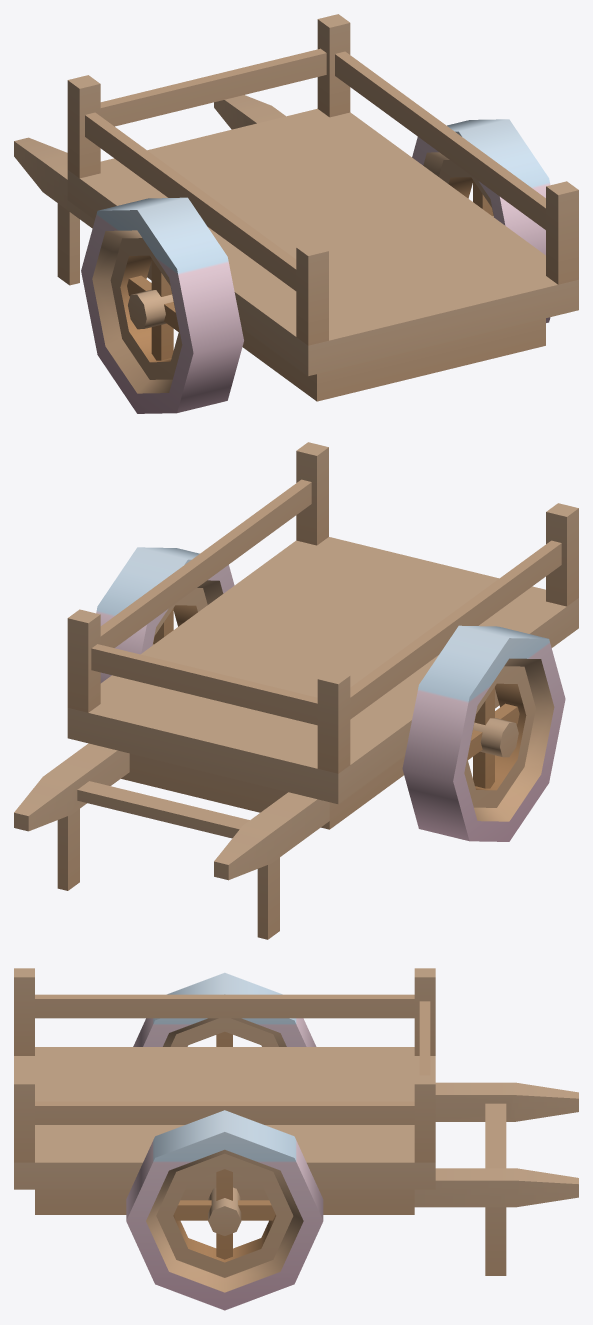
Rendered from cart.obj.
The picture shows the model from 3 angles, top to bottom: view 1: azimuth 30°, elevation 25°; view 2: azimuth 150°, elevation 25°; view 3: azimuth 270°, elevation 25°; orthographic projection. The views are drawn at different scales.
Visible parts, largest first — view 1: cart, Group; view 2: cart, Group; view 3: cart, Group.
Boxes of the visible parts, box(x1,y1,x2,y2) form: cart: box(14, 14, 578, 401); Group: box(81, 119, 550, 413); cart: box(14, 442, 578, 939); Group: box(96, 547, 565, 841); cart: box(14, 968, 578, 1275); Group: box(126, 972, 323, 1310).
Bounding box in the file's own units: 6.31 × 3.79 × 9.47.
Materials: 1 (1 with a texture image).
